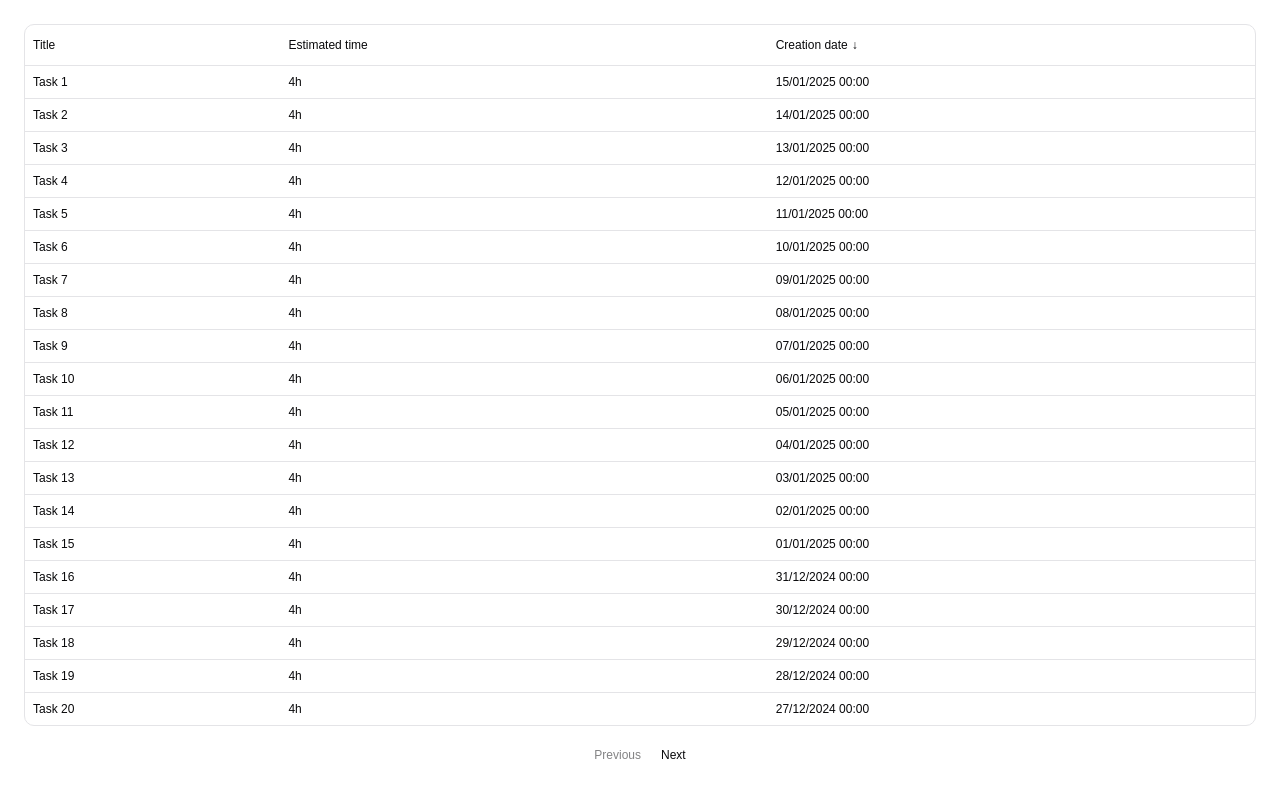
Test case: TasksPage — sorting › clicking Estimated time header sorts by estimated time
Expected: the text "Task 1" is shown, [25, 65, 280, 98]
Click the column heading "Estimated time" at point(328, 45), box [280, 25, 768, 65]
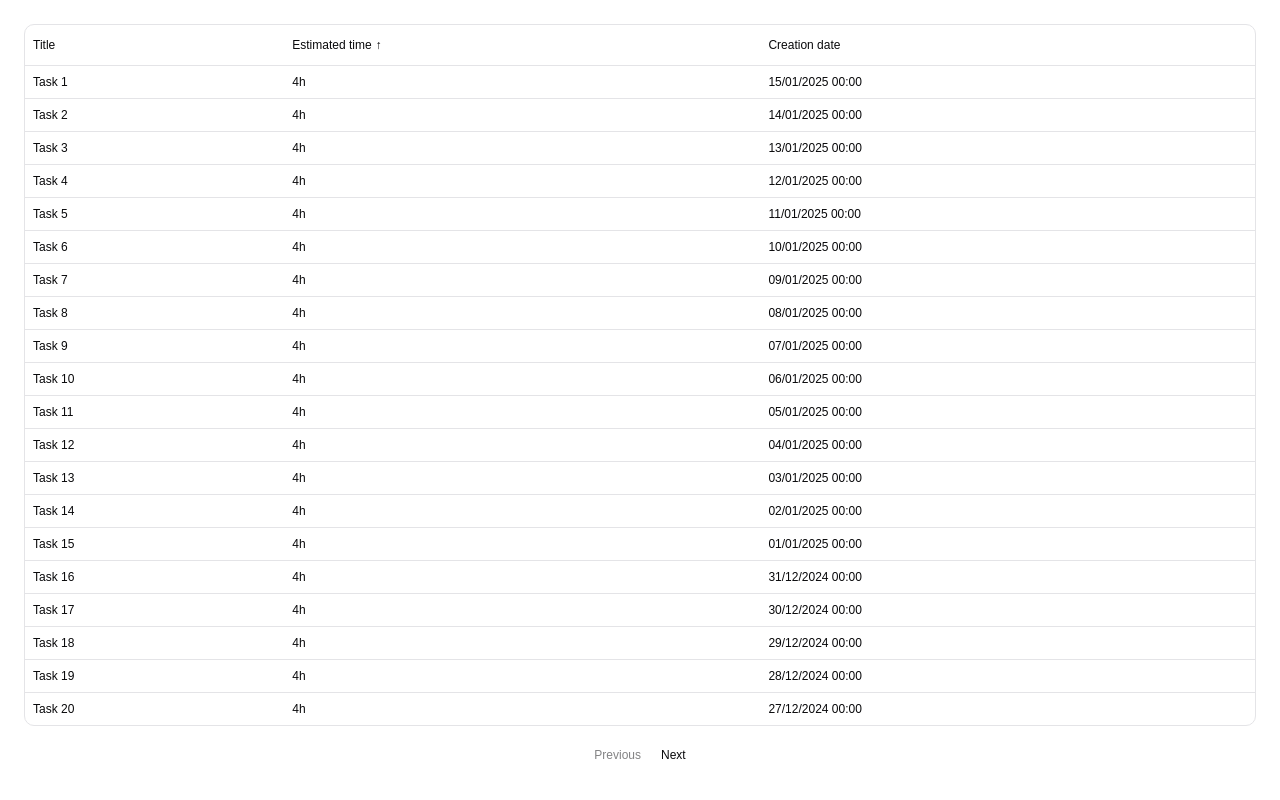
Result: the column heading "Estimated time ↑" is shown at [284, 25, 760, 65]
